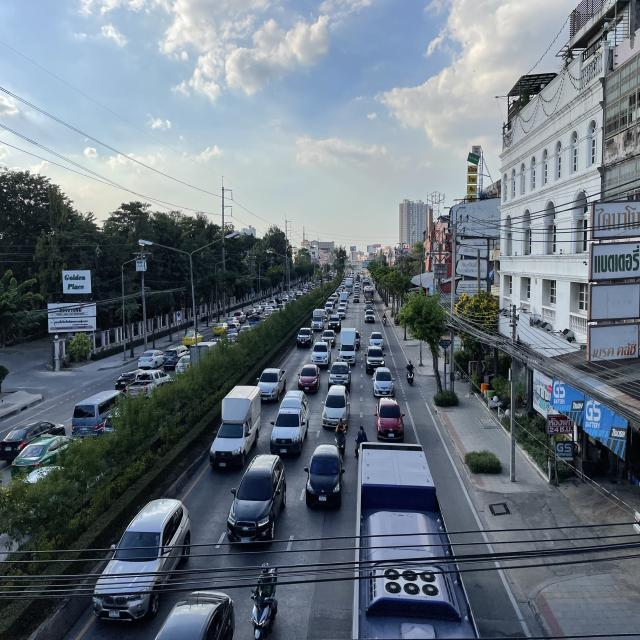bike: (248, 559, 283, 640), (355, 424, 369, 463), (334, 415, 346, 457), (406, 359, 415, 386)
bus: (352, 442, 480, 640)
car: (93, 498, 191, 622), (226, 454, 286, 546), (304, 442, 344, 510), (374, 397, 405, 444), (321, 385, 351, 429), (255, 367, 288, 403), (328, 361, 351, 394), (297, 364, 321, 394), (372, 367, 395, 398), (296, 327, 314, 348)
truck: (209, 386, 260, 472), (270, 390, 310, 457), (338, 327, 357, 366), (310, 338, 332, 367), (311, 308, 325, 331)
